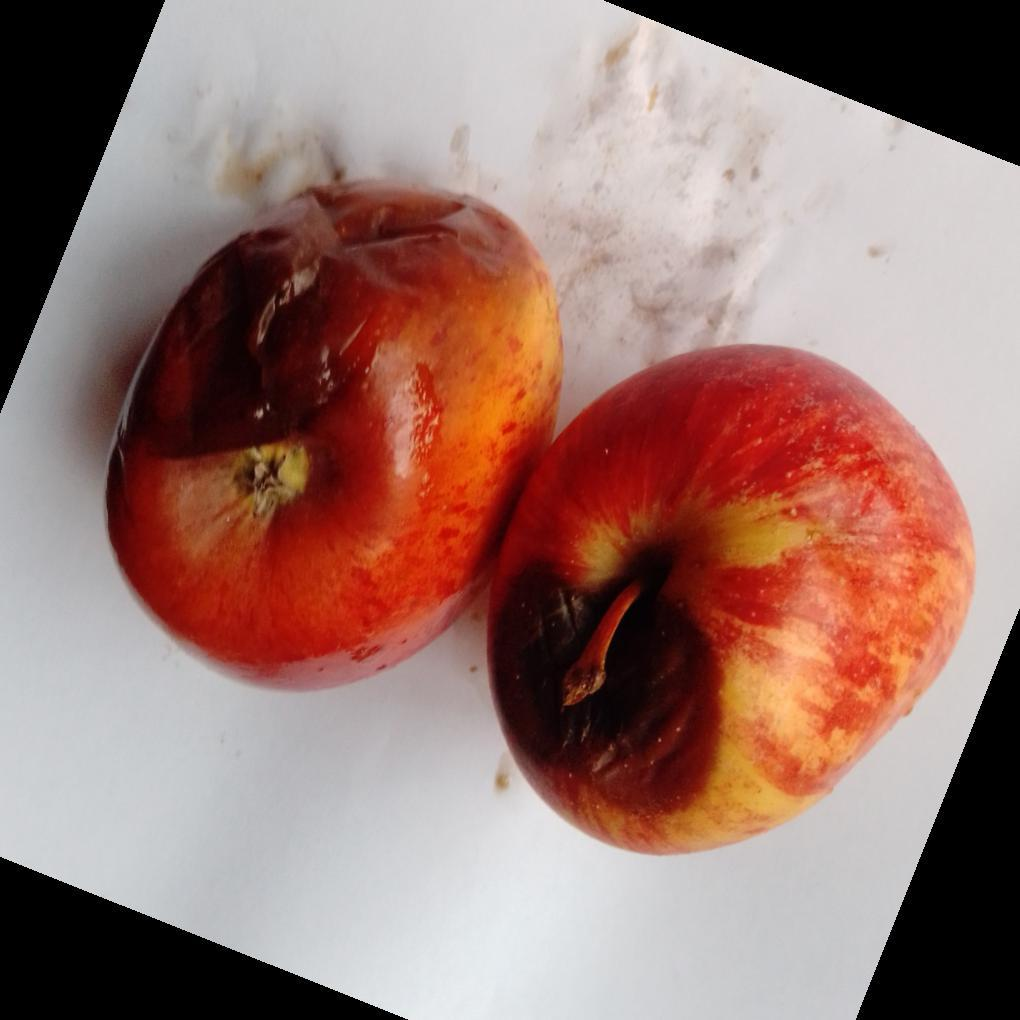FreshOrange: (102, 180, 979, 860)
